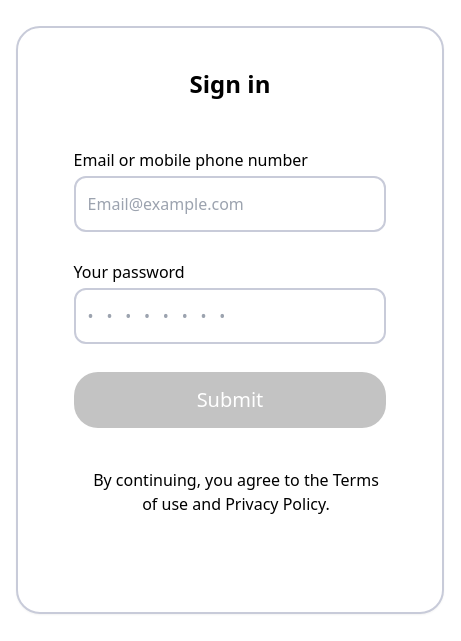
Test case: email input isvalied
Step 1. Type "r" into the field labelled "Email or mobile phone number" → (230, 204), box x1=74 y1=176 x2=386 y2=232
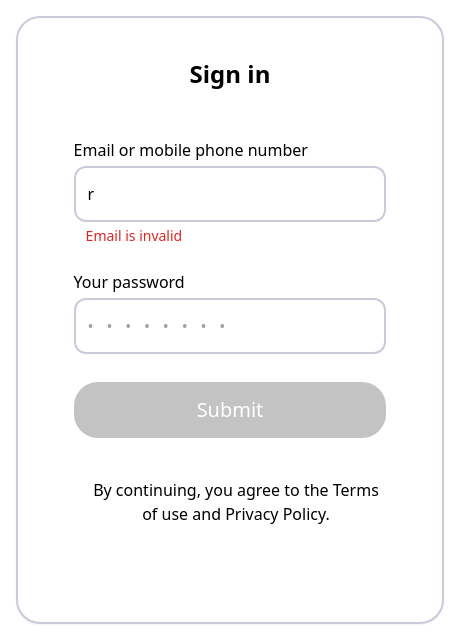
Expected: the text "Email is invalid" is shown, x1=86 y1=226 x2=182 y2=245
